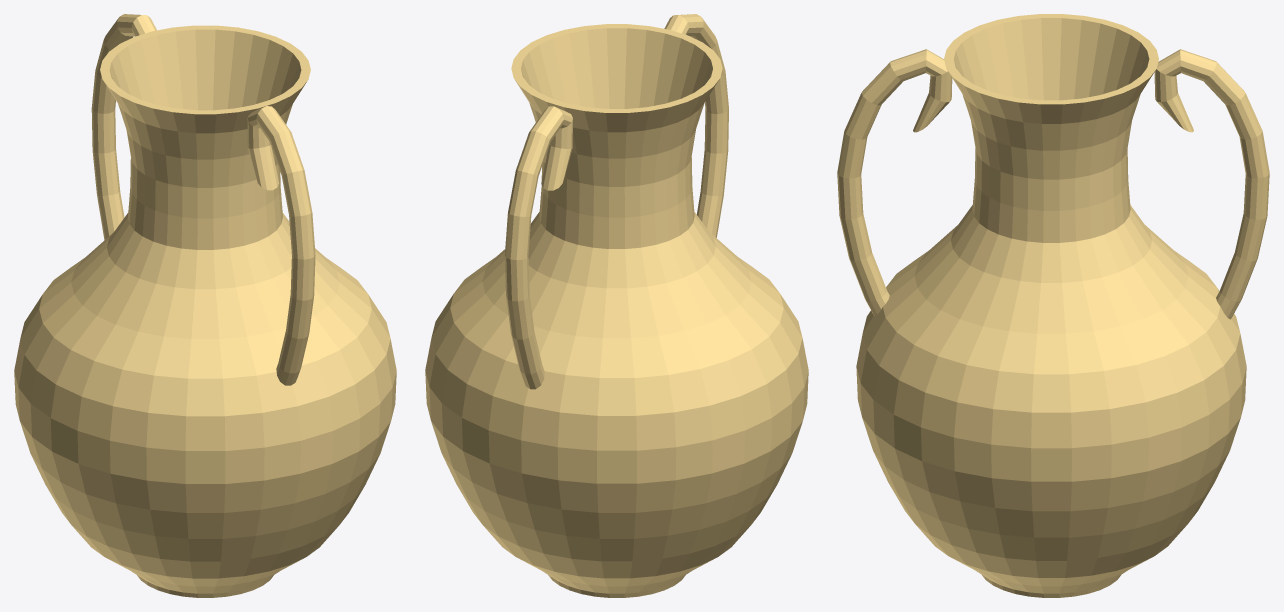
Rendered from ornement.fbx.
3 renders of one model, left to right at view 1: azimuth 30°, elevation 25°; view 2: azimuth 150°, elevation 25°; view 3: azimuth 270°, elevation 25°, orthographic. The views are drawn at different scales.
Parts seen in each view (by area): view 1: Sphere; view 2: Sphere; view 3: Sphere.
Boxes of the visible parts, <box> form: Sphere: <box>14,14,396,597</box>; Sphere: <box>425,14,808,597</box>; Sphere: <box>837,14,1269,597</box>.
Size of the model in its own units: 223 by 200 by 295.
1 material, 1 textured.
